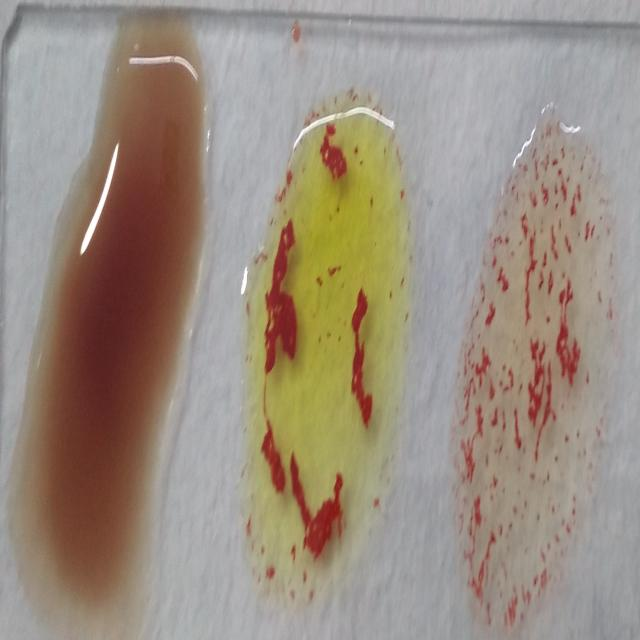B: (253, 89, 411, 606)
D: (463, 122, 618, 632)
